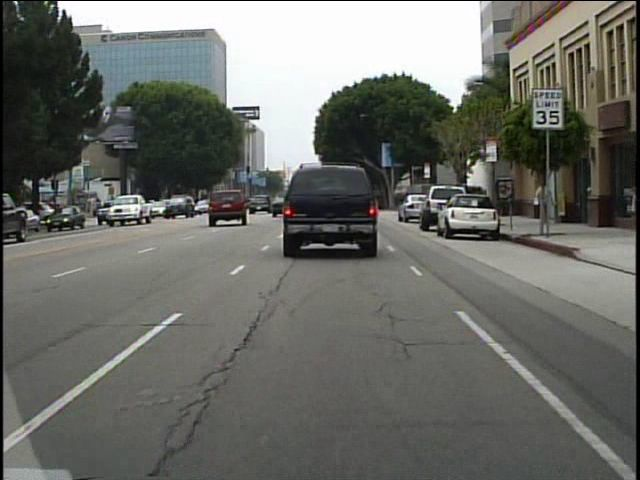person: (535, 178, 555, 229), (457, 181, 474, 219)
